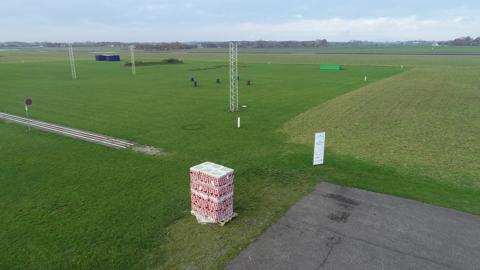RockwoolPallet: (189, 161, 235, 223)
